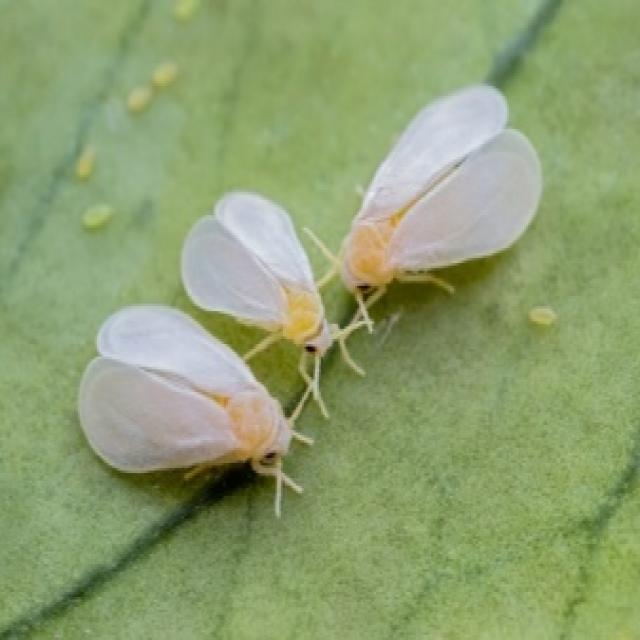Whitefly: (65, 69, 555, 531)
